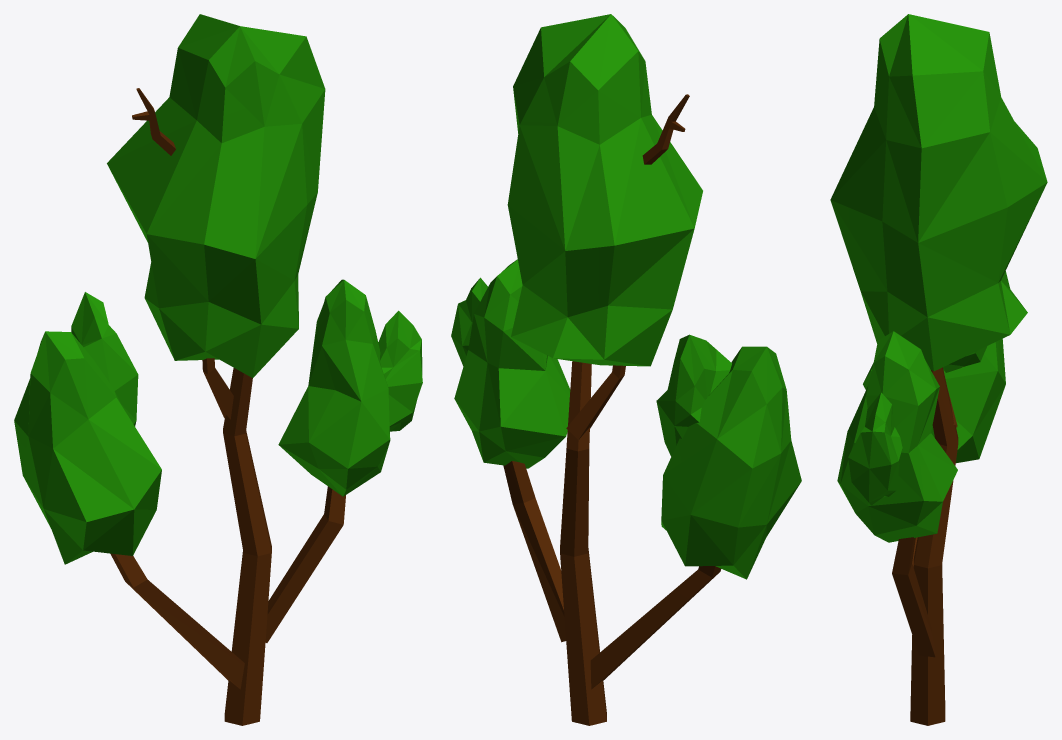
Rendered from Tree_temp_climate_010.FBX.
The picture shows the model from 3 angles, left to right: view 1: azimuth 30°, elevation 25°; view 2: azimuth 150°, elevation 25°; view 3: azimuth 270°, elevation 25°; orthographic projection.
Parts seen in each view (by area): view 1: Tree_temp_climate_010; view 2: Tree_temp_climate_010; view 3: Tree_temp_climate_010.
Boxes of the visible parts, <box> form: Tree_temp_climate_010: <box>14,14,422,725</box>; Tree_temp_climate_010: <box>451,14,801,725</box>; Tree_temp_climate_010: <box>830,14,1047,725</box>.
Bounding box in the file's own units: 307 × 570 × 161.
